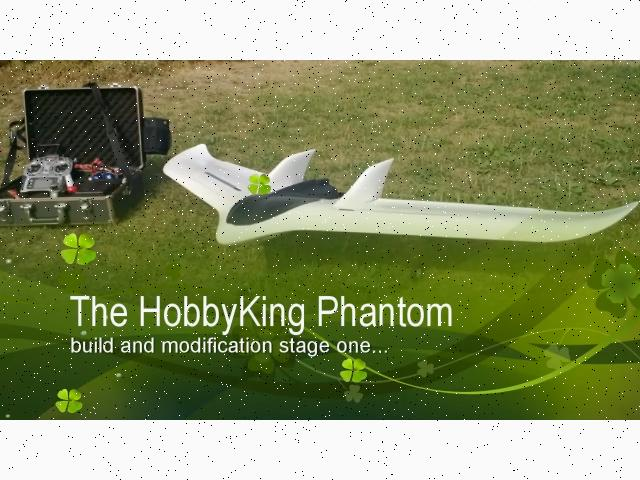Anti-Drone: (142, 118, 640, 262)
